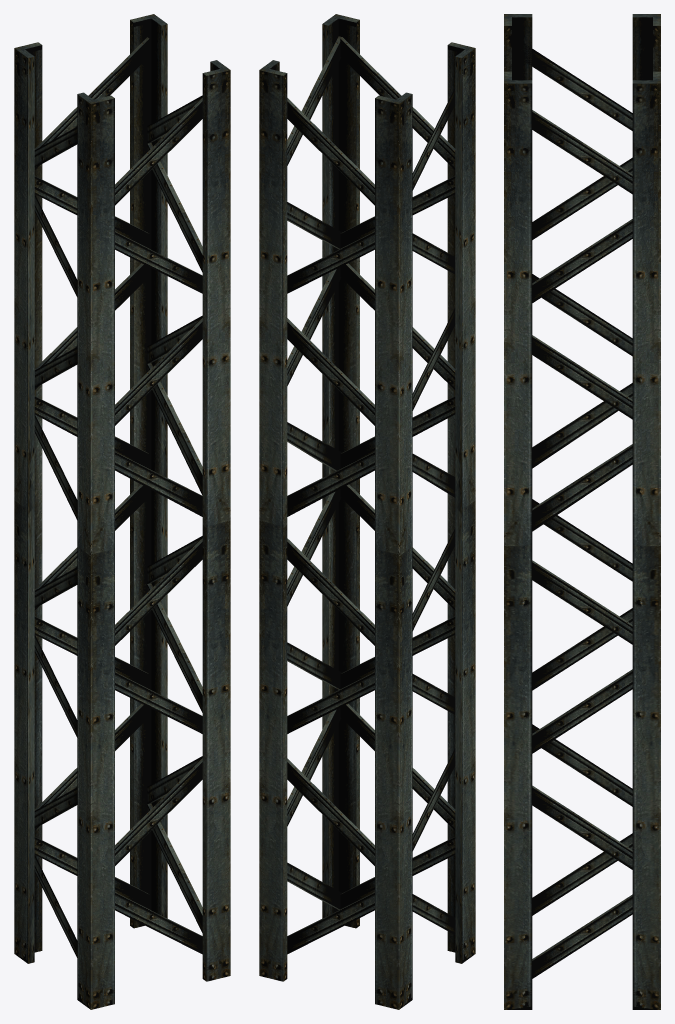
File: const.obj
3 renders of one model, left to right at view 1: azimuth 30°, elevation 25°; view 2: azimuth 150°, elevation 25°; view 3: azimuth 270°, elevation 25°, orthographic. The views are drawn at different scales.
Visible parts, largest first — view 1: Group; view 2: Group; view 3: Group.
Boxes of the visible parts, x1=… form: Group: x1=14, y1=14, x2=230, y2=1009; Group: x1=259, y1=14, x2=475, y2=1009; Group: x1=504, y1=14, x2=660, y2=1009.
Bounding box in the file's own units: 82.32 × 510 × 78.31.
